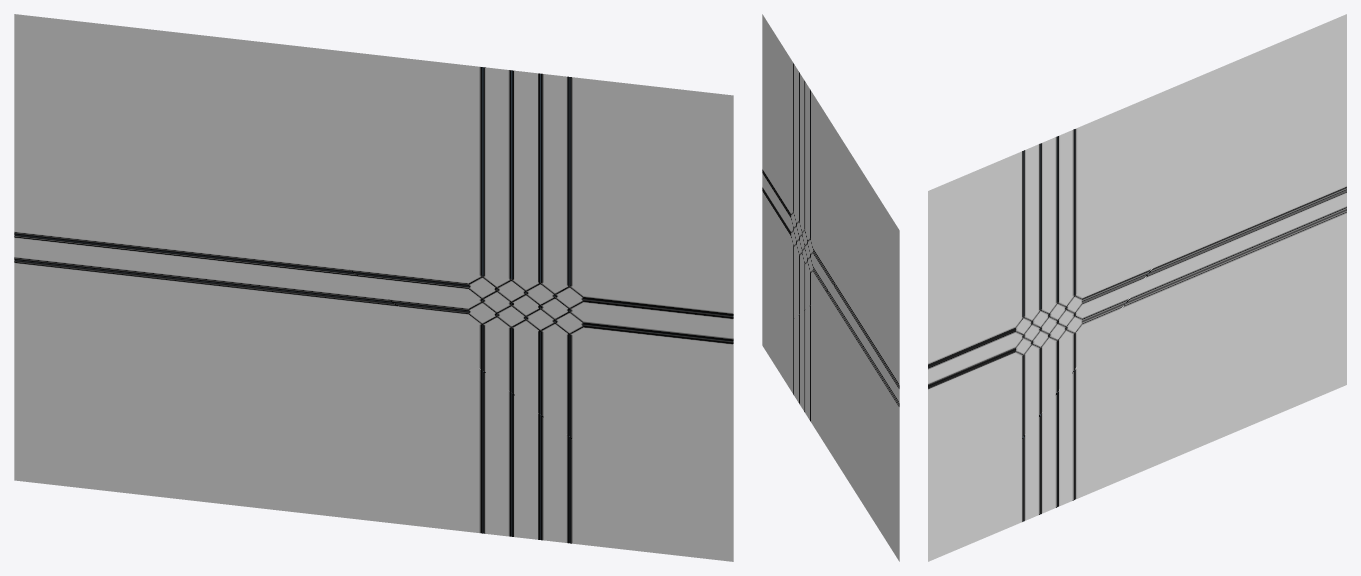
File: meshCut.fbx
The picture shows the model from 3 angles, left to right: view 1: azimuth 30°, elevation 25°; view 2: azimuth 150°, elevation 25°; view 3: azimuth 270°, elevation 25°; orthographic projection. The views are drawn at different scales.
Visible parts, largest first — view 1: meshCut; view 2: meshCut; view 3: meshCut.
Boxes of the visible parts, x1=… form: meshCut: x1=14, y1=14, x2=733, y2=561; meshCut: x1=762, y1=14, x2=899, y2=561; meshCut: x1=928, y1=14, x2=1346, y2=561.
Size of the model in its own units: 0.7646 by 0.7471 by 0.7646.
1 material, 1 textured.
